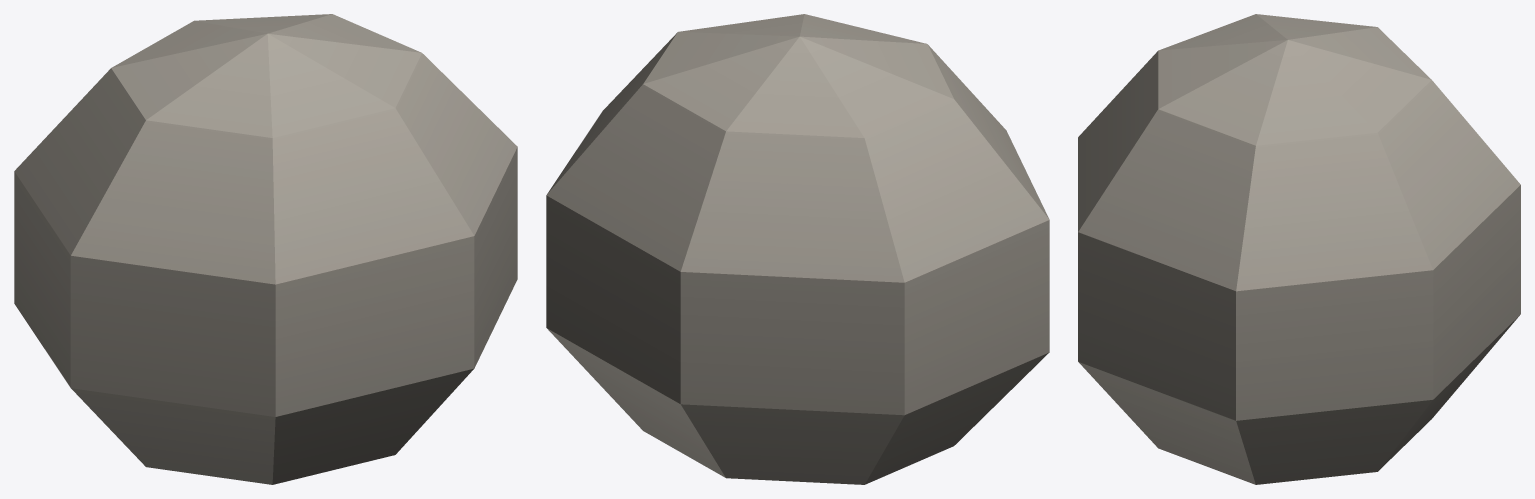
File: stone.glb
3 renders of one model, left to right at view 1: azimuth 30°, elevation 25°; view 2: azimuth 150°, elevation 25°; view 3: azimuth 270°, elevation 25°, orthographic. The views are drawn at different scales.
Visible parts, largest first — view 1: stone; view 2: stone; view 3: stone.
Part boxes in pixels (x1,y1,x2,y2): stone: (14, 14, 517, 484); stone: (546, 14, 1049, 484); stone: (1078, 14, 1520, 484).
Size of the model in its own units: 0.3709 by 0.34 by 0.3254.
1 material, 1 textured.
